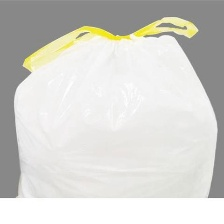plastic_bag: (6, 6, 223, 198)
